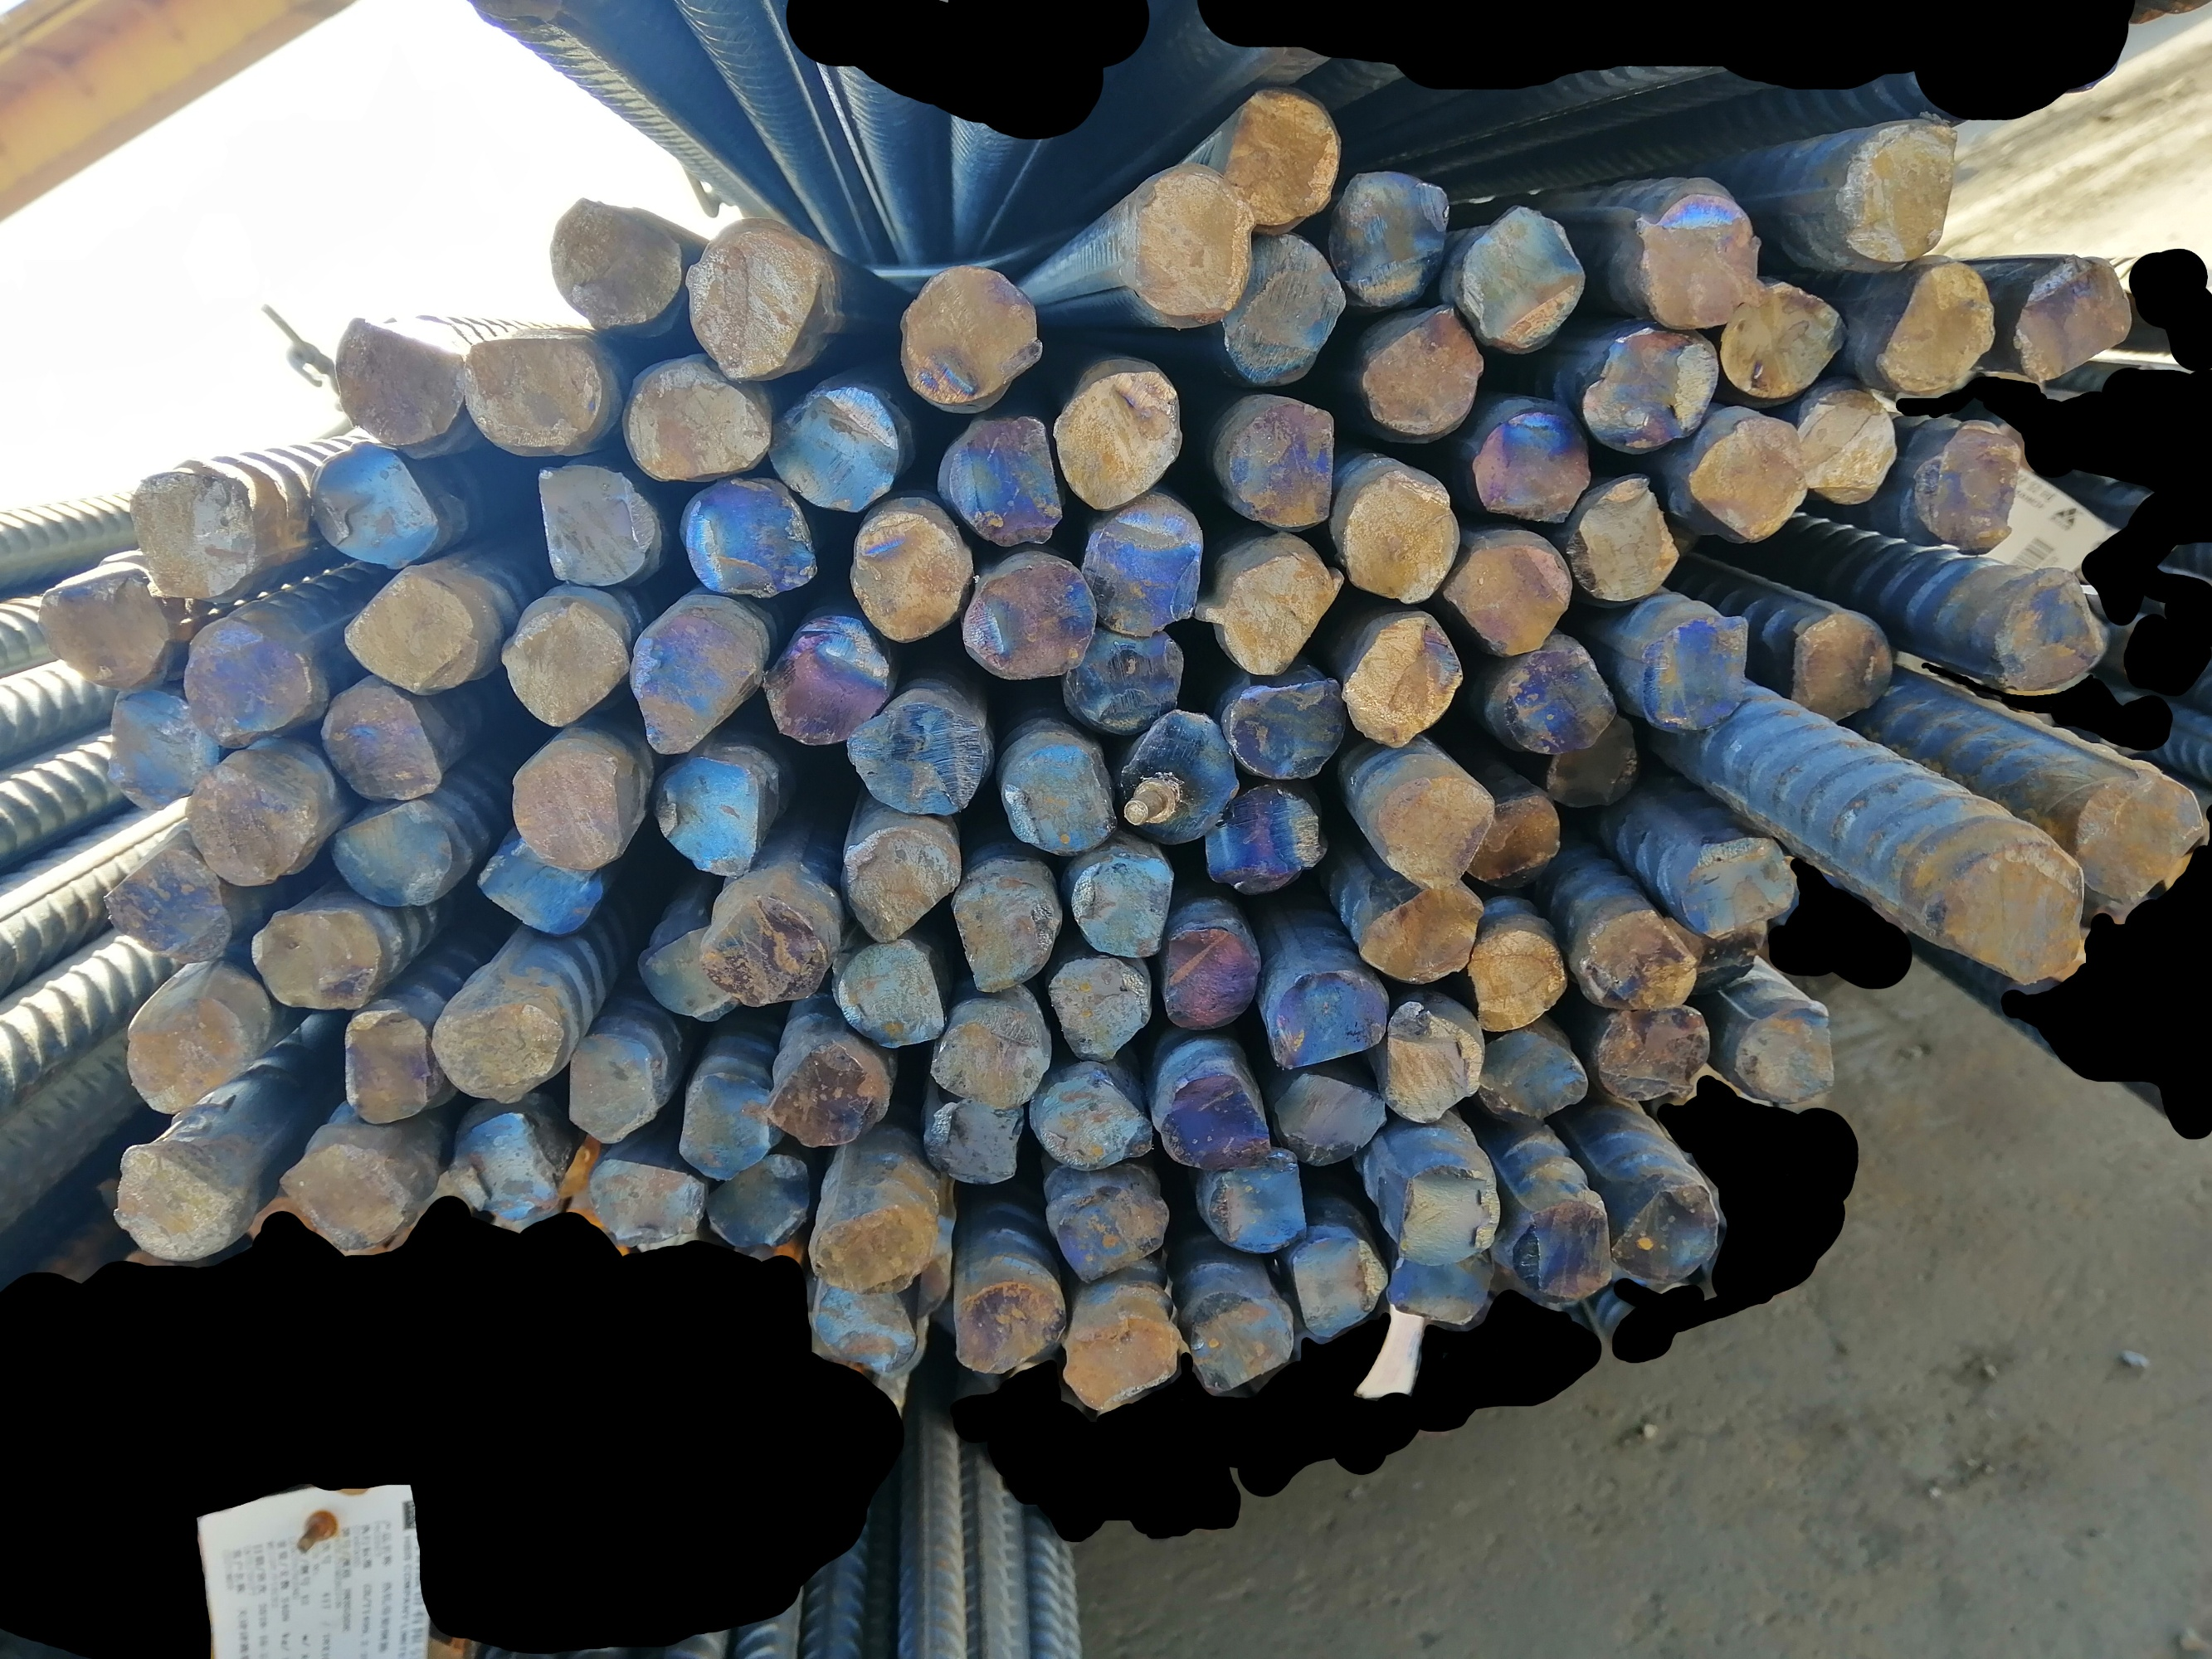rebar: (678, 214, 831, 385), (1935, 824, 2088, 985), (631, 587, 769, 758), (899, 261, 1049, 408), (845, 676, 997, 821), (1121, 160, 1255, 319), (1051, 356, 1184, 512), (1217, 234, 1349, 387), (1198, 538, 1344, 676), (615, 349, 765, 483), (1630, 185, 1766, 331), (2074, 762, 2207, 911), (30, 558, 169, 699), (495, 584, 628, 730), (336, 570, 485, 701), (1578, 321, 1722, 453), (1459, 202, 1586, 352), (190, 749, 326, 889), (307, 441, 446, 577), (957, 552, 1100, 685), (333, 317, 467, 457), (514, 735, 643, 880), (1837, 120, 1963, 268), (120, 986, 256, 1122), (762, 605, 892, 746), (108, 1136, 242, 1272), (549, 188, 682, 326), (275, 1126, 415, 1256), (847, 500, 976, 641), (1081, 497, 1210, 638), (1872, 254, 1996, 401), (767, 382, 901, 516), (462, 336, 605, 462), (181, 613, 316, 746), (933, 411, 1063, 547), (678, 472, 819, 598), (129, 467, 256, 605), (1112, 706, 1236, 847), (1227, 82, 1346, 228), (1358, 303, 1489, 436), (424, 985, 563, 1108), (1684, 410, 1811, 544), (2008, 251, 2134, 387), (1330, 167, 1450, 308), (103, 687, 234, 816), (1720, 268, 1846, 403), (525, 460, 655, 587), (1442, 532, 1574, 657), (835, 817, 969, 941), (242, 899, 387, 1012), (1989, 563, 2111, 697), (1340, 606, 1459, 742), (1342, 467, 1461, 603), (324, 793, 462, 910), (812, 1175, 947, 1293), (697, 889, 826, 1011), (1218, 397, 1337, 528), (1564, 474, 1682, 605), (947, 866, 1065, 995), (105, 850, 235, 967), (443, 1105, 563, 1230), (312, 685, 443, 800), (1910, 416, 2020, 552), (1637, 610, 1757, 734), (647, 749, 762, 878), (1203, 786, 1333, 899), (1471, 404, 1591, 526), (1056, 1302, 1182, 1419), (1727, 995, 1846, 1117), (1370, 775, 1494, 892), (763, 1035, 889, 1150), (1783, 605, 1902, 725), (1264, 965, 1396, 1072), (999, 742, 1119, 859), (1154, 1056, 1269, 1178), (336, 997, 439, 1133), (826, 938, 948, 1051), (1576, 908, 1700, 1019), (1288, 1222, 1396, 1349), (1381, 997, 1487, 1124), (1677, 833, 1804, 939), (1021, 1066, 1147, 1173), (926, 1011, 1055, 1114), (556, 1032, 668, 1150), (1206, 1141, 1318, 1260), (1225, 673, 1346, 782), (1358, 884, 1487, 985), (675, 1068, 788, 1183), (1062, 843, 1173, 960), (1154, 917, 1264, 1035), (1180, 1290, 1295, 1401), (1048, 955, 1161, 1066), (1069, 624, 1184, 734), (1503, 645, 1618, 755), (587, 1150, 706, 1256), (1386, 1157, 1504, 1263), (1591, 1006, 1710, 1112), (1267, 1065, 1388, 1169), (950, 1274, 1062, 1385), (1513, 1194, 1621, 1309), (1048, 1182, 1166, 1286), (1612, 1168, 1717, 1286), (1795, 389, 1900, 507), (483, 836, 605, 938), (708, 1145, 812, 1251), (636, 901, 727, 1023), (1469, 924, 1567, 1037), (811, 1279, 929, 1371), (1659, 911, 1778, 1004), (1478, 1032, 1591, 1124), (915, 1096, 1023, 1188), (1384, 1248, 1499, 1331), (1543, 716, 1645, 809), (1462, 791, 1560, 884)
